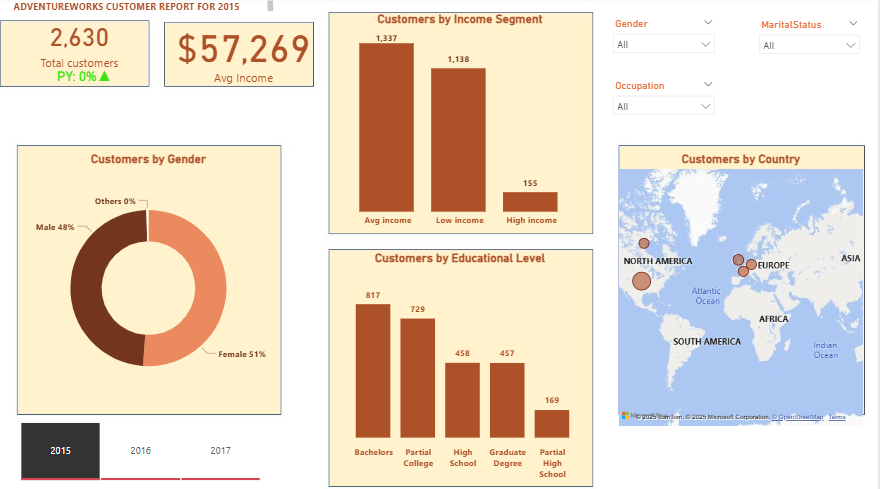

The dashboard page shown, as its layout file describes it:
{"tool":"powerbi","page":{"name":"CUSTOMER REPORT","canvas":[1280,720],"ordinal":0},"visuals":[{"type":"qnaVisual","box":[11.4,98.7,24.1,211.4],"z":0},{"type":"card","fields":{"Values":["DAX MEASURES.Total customers"]},"box":[35.6,0,227.8,128.9],"z":1000},{"type":"slicer","fields":{"Values":["Calendar.Year"]},"box":[41.1,596.7,388.3,95],"z":2000},{"type":"card","fields":{"Values":["DAX MEASURES.Avg Income"]},"box":[263.3,24.4,236.7,104.4],"z":3000},{"type":"card","fields":{"Values":["AdventureWorks _Sales.Customer Growth %"]},"box":[77.8,94.4,156.7,34.4],"z":4000},{"type":"columnChart","title":"Customers by Income Segment","fields":{"Y":["DAX MEASURES.Total customers"],"Category":["AdventureWorks_Customers - AdventureWorks_Customers (1).IncomeSegment"]},"box":[500.3,21.3,377,313.2],"z":5000},{"type":"columnChart","title":"Customers by Educational Level","fields":{"Category":["AdventureWorks_Customers - AdventureWorks_Customers (1).Educationa lLevel"],"Y":["DAX MEASURES.Total customers"]},"box":[501.7,360,374.2,331.7],"z":6000},{"type":"donutChart","title":"Customers by Gender","fields":{"Category":["AdventureWorks_Customers - AdventureWorks_Customers (1).Gender"],"Y":["DAX MEASURES.Total customers"]},"box":[65.2,219.7,364.3,367.1],"z":7000},{"type":"slicer","fields":{"Values":["AdventureWorks_Customers - AdventureWorks_Customers (1).Gender"]},"box":[895.7,24.1,164.4,70.9],"z":8000},{"type":"slicer","fields":{"Values":["AdventureWorks_Customers - AdventureWorks_Customers (1).Occupation"]},"box":[895.7,112,164.4,70.9],"z":9000},{"type":"slicer","fields":{"Values":["AdventureWorks_Customers - AdventureWorks_Customers (1).MaritalStatus"]},"box":[1102.7,25.5,163,75.1],"z":10000},{"type":"textbox","box":[51,0,378.4,25.5],"z":11000},{"type":"actionButton","box":[0,0,100,40],"z":12000},{"type":"map","title":"Customers by Country","fields":{"Category":["AdventureWorks_Territories - AdventureWorks_Territories.Country"],"Size":["DAX MEASURES.Total customers"]},"box":[908.5,219.7,357.2,392.6],"z":13000}]}

Visuals, with their boxes in screenshot pixels (x1, y1, x2, y2), scaled from the page's 1280x720 canvas onto the 880x489 screenshot:
qnaVisual: x1=8 y1=67 x2=24 y2=211
card - DAX MEASURES.Total customers: x1=24 y1=0 x2=181 y2=88
slicer - Calendar.Year: x1=28 y1=405 x2=295 y2=470
card - DAX MEASURES.Avg Income: x1=181 y1=17 x2=344 y2=87
card - AdventureWorks _Sales.Customer Growth %: x1=53 y1=64 x2=161 y2=87
"Customers by Income Segment" columnChart: x1=344 y1=14 x2=603 y2=227
"Customers by Educational Level" columnChart: x1=345 y1=244 x2=602 y2=470
"Customers by Gender" donutChart: x1=45 y1=149 x2=295 y2=399
slicer - AdventureWorks_Customers - AdventureWorks_Customers (1).Gender: x1=616 y1=16 x2=729 y2=65
slicer - AdventureWorks_Customers - AdventureWorks_Customers (1).Occupation: x1=616 y1=76 x2=729 y2=124
slicer - AdventureWorks_Customers - AdventureWorks_Customers (1).MaritalStatus: x1=758 y1=17 x2=870 y2=68
textbox: x1=35 y1=0 x2=295 y2=17
actionButton: x1=0 y1=0 x2=69 y2=27
"Customers by Country" map: x1=625 y1=149 x2=870 y2=416
